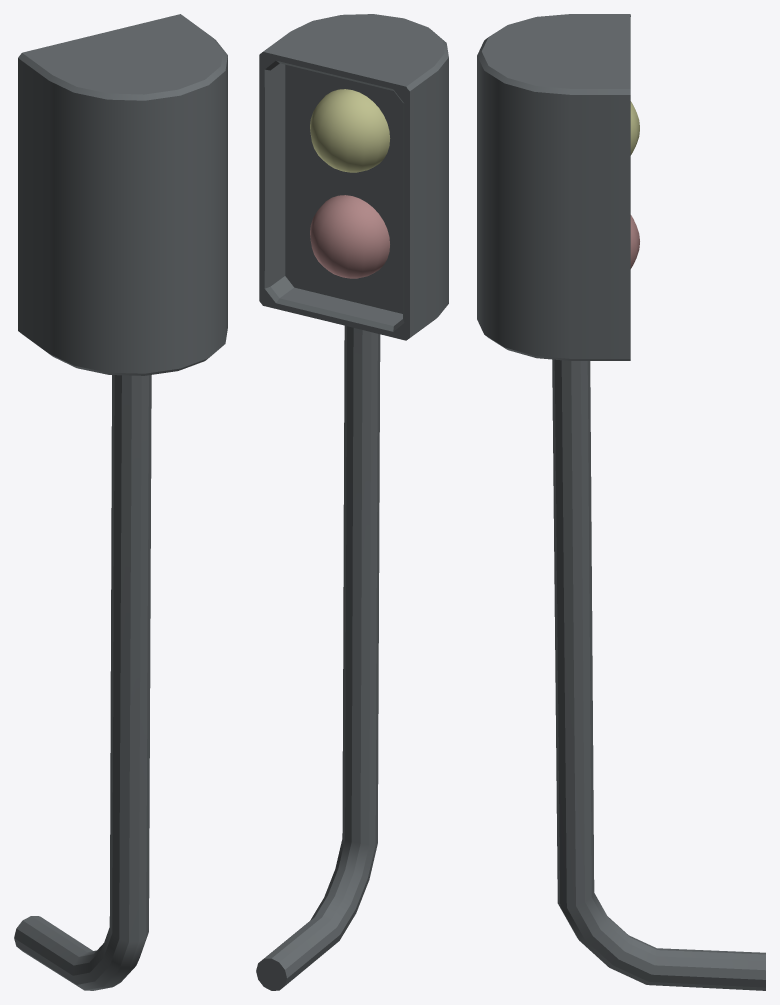
Rendered from Conveyor_Light_2.fbx.
The picture shows the model from 3 angles, left to right: view 1: azimuth 30°, elevation 25°; view 2: azimuth 150°, elevation 25°; view 3: azimuth 270°, elevation 25°; orthographic projection. The views are drawn at different scales.
Parts seen in each view (by area): view 1: pCylinder46; view 2: pCylinder46, pSphere2, pSphere1; view 3: pCylinder46.
Boxes of the visible parts, x1,y1,x2,y2 form: pCylinder46: (14, 14, 227, 990); pCylinder46: (256, 14, 448, 990); pSphere2: (310, 89, 390, 172); pSphere1: (310, 195, 389, 278); pCylinder46: (477, 14, 765, 990).
Size of the model in its own units: 0.0891 by 0.4952 by 0.1382.
